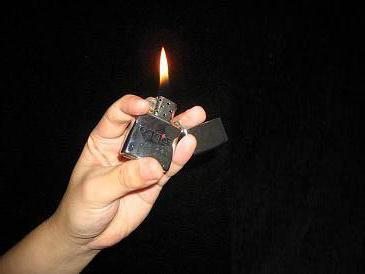fire: (154, 43, 180, 102)
